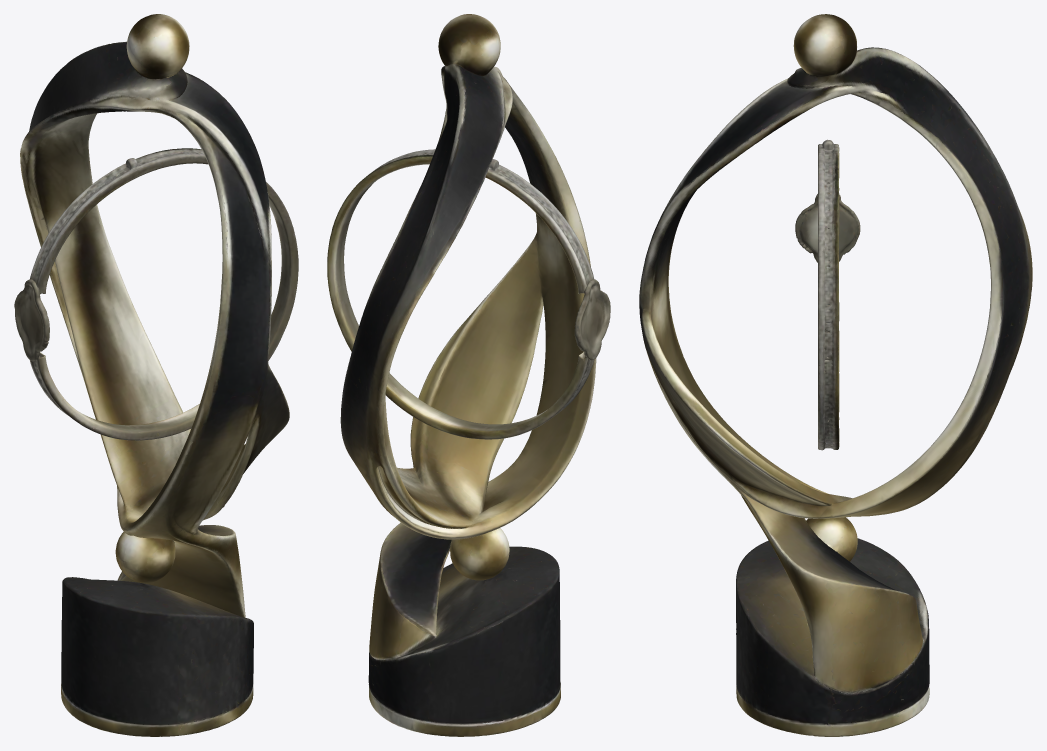
File: chosen-piece.glb
3 views of the same model, side by side, from view 1: azimuth 30°, elevation 25°; view 2: azimuth 150°, elevation 25°; view 3: azimuth 270°, elevation 25° (orthographic).
Visible parts, largest first — view 1: geometry_0; view 2: geometry_0; view 3: geometry_0.
Part boxes in pixels (x1,y1,x2,y2): geometry_0: (14, 14, 298, 736); geometry_0: (327, 14, 610, 736); geometry_0: (639, 14, 1032, 736).
Size of the model in its own units: 0.4073 by 1 by 0.5257.
Materials: 1 (1 with a texture image).
